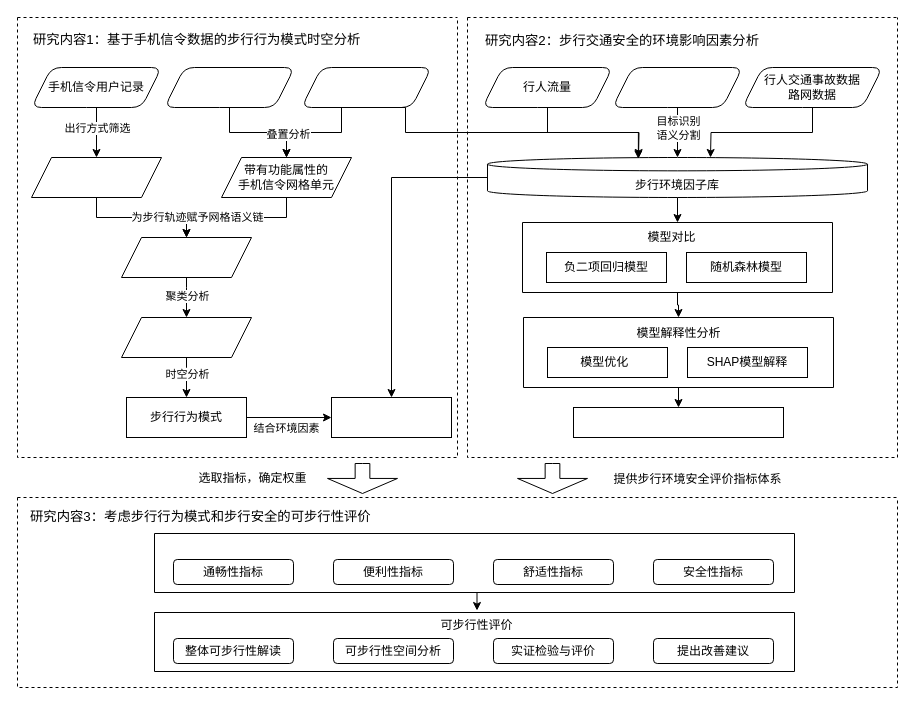
Some shapes in this 915 by 705 pixel diagram are drawn without their labels. The box of each missing label's shape, as (x1, y1, x2, y2) in pixels:
POI、用地类型: (300, 66, 432, 108)
手机信令网格: (164, 66, 294, 108)
构建可步行性评价指标体系: (154, 532, 794, 592)
步行出行轨迹: (30, 156, 162, 198)
步行安全环境代理变量: (572, 406, 784, 438)
步行行为类型: (120, 316, 252, 358)
步行轨迹语义链: (120, 236, 252, 278)
环境-行为模型: (330, 396, 452, 438)
街景数据: (612, 66, 742, 108)
